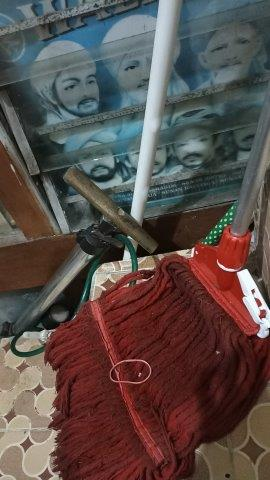karet: (109, 359, 153, 384)
